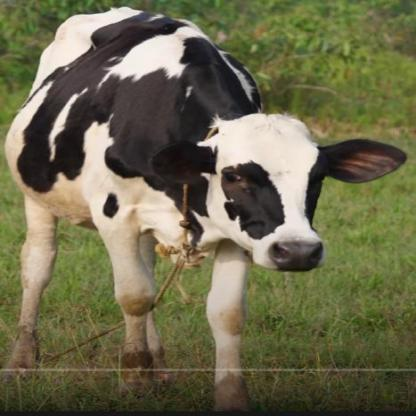cow: (5, 7, 408, 416)
